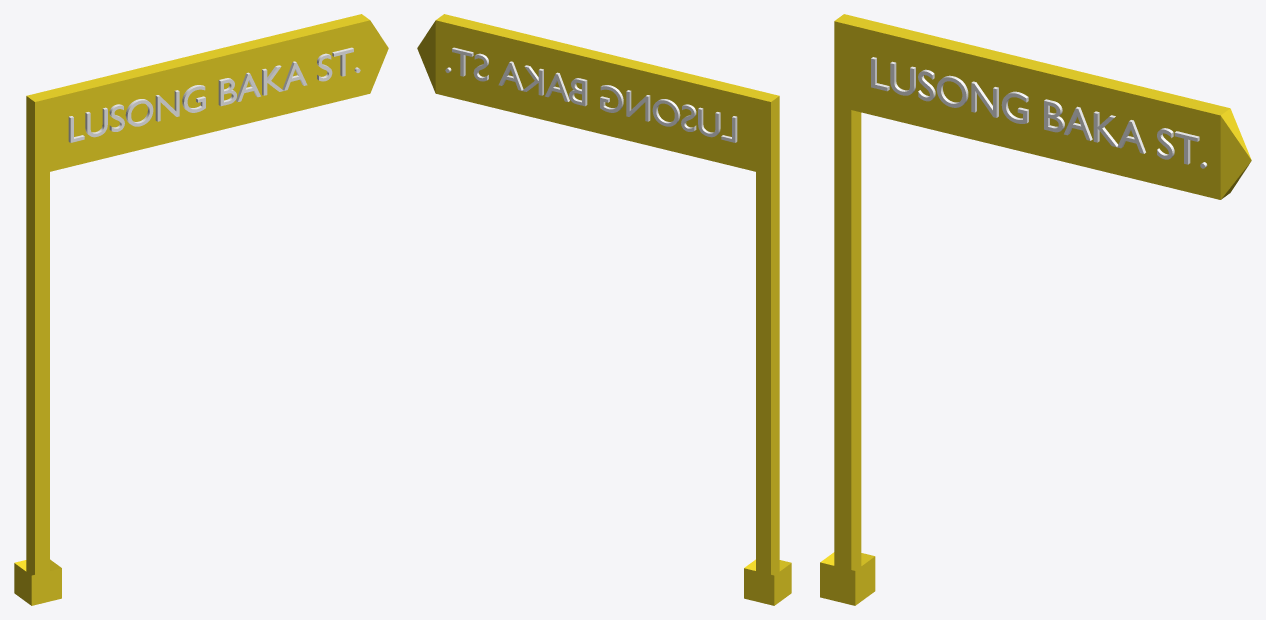
The model's file is lbstposest (1).fbx.
3 renders of one model, left to right at view 1: azimuth 30°, elevation 25°; view 2: azimuth 150°, elevation 25°; view 3: azimuth 330°, elevation 25°, orthographic. The views are drawn at different scales.
Parts seen in each view (by area): view 1: Cube; view 2: Cube; view 3: Cube.
Boxes of the visible parts, box(x1,y1,x2,y2) form: Cube: box(14, 14, 388, 605); Cube: box(417, 14, 791, 605); Cube: box(820, 14, 1251, 605).
Size of the model in its own units: 1043 by 1358 by 86.25.
